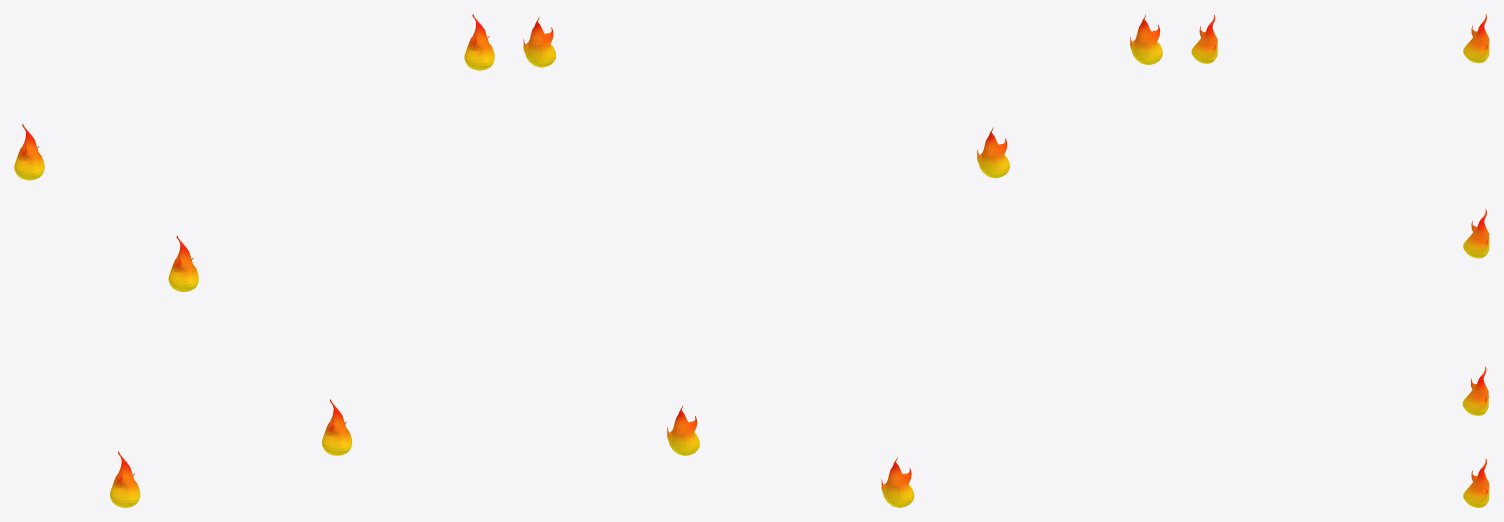
The model's file is fire.glb.
3 renders of one model, left to right at view 1: azimuth 30°, elevation 25°; view 2: azimuth 150°, elevation 25°; view 3: azimuth 270°, elevation 25°, orthographic. The views are drawn at different scales.
Visible parts, largest first — view 1: fire3:Group20972.001, fire3:Group20972.004, fire3:Group20972, fire3:Group20972.003, fire3:Group20972.002; view 2: fire3:Group20972, fire3:Group20972.004, fire3:Group20972.001, fire3:Group20972.002, fire3:Group20972.003; view 3: fire3:Group20972.003, fire3:Group20972, fire3:Group20972.001, fire3:Group20972.002, fire3:Group20972.004.
Boxes of the visible parts, x1,y1,x2,y2 form: fire3:Group20972.001: (14,124,44,180); fire3:Group20972.004: (110,451,140,507); fire3:Group20972: (464,14,494,70); fire3:Group20972.003: (322,399,351,455); fire3:Group20972.002: (168,235,198,291); fire3:Group20972: (523,17,555,67); fire3:Group20972.004: (881,457,914,507); fire3:Group20972.001: (977,127,1009,178); fire3:Group20972.002: (1130,14,1162,65); fire3:Group20972.003: (667,405,699,455); fire3:Group20972.003: (1463,459,1489,507); fire3:Group20972: (1463,209,1489,258); fire3:Group20972.001: (1463,14,1489,63); fire3:Group20972.002: (1191,15,1217,63); fire3:Group20972.004: (1462,367,1488,415).
Size of the model in its own units: 11.01 by 8.88 by 6.7.
1 material, 1 textured.
